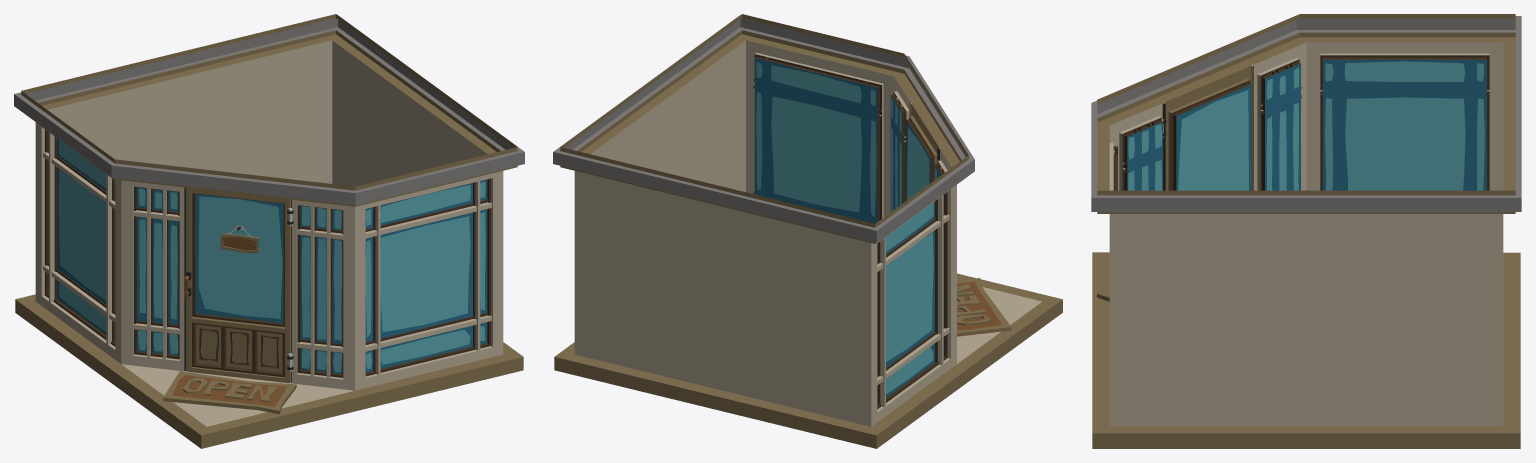
The model's file is Building_A_01_01.FBX.
3 views of the same model, side by side, from view 1: azimuth 30°, elevation 25°; view 2: azimuth 150°, elevation 25°; view 3: azimuth 270°, elevation 25° (orthographic). The views are drawn at different scales.
Visible parts, largest first — view 1: Building_A_01_01; view 2: Building_A_01_01; view 3: Building_A_01_01.
Boxes of the visible parts, box(x1,y1,x2,y2) form: Building_A_01_01: box(14, 14, 524, 448); Building_A_01_01: box(553, 14, 1062, 448); Building_A_01_01: box(1091, 14, 1521, 448).
Size of the model in its own units: 5.02 by 3.3 by 5.02.
